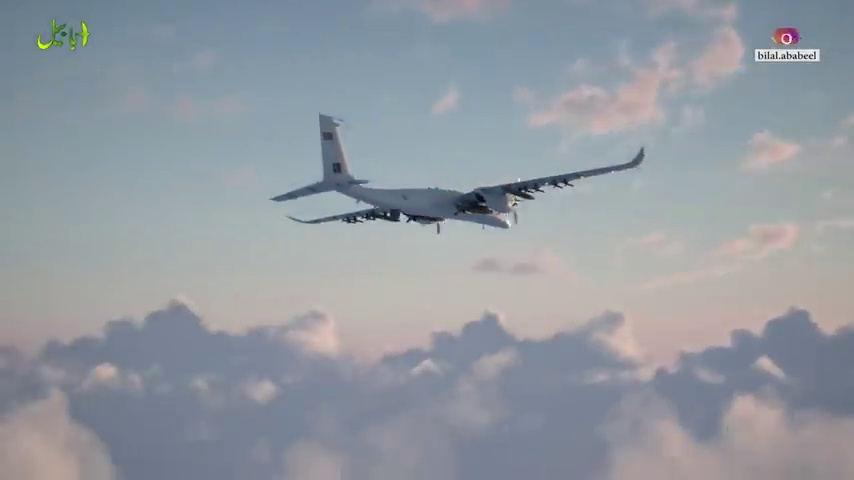military drone: (267, 111, 645, 234)
